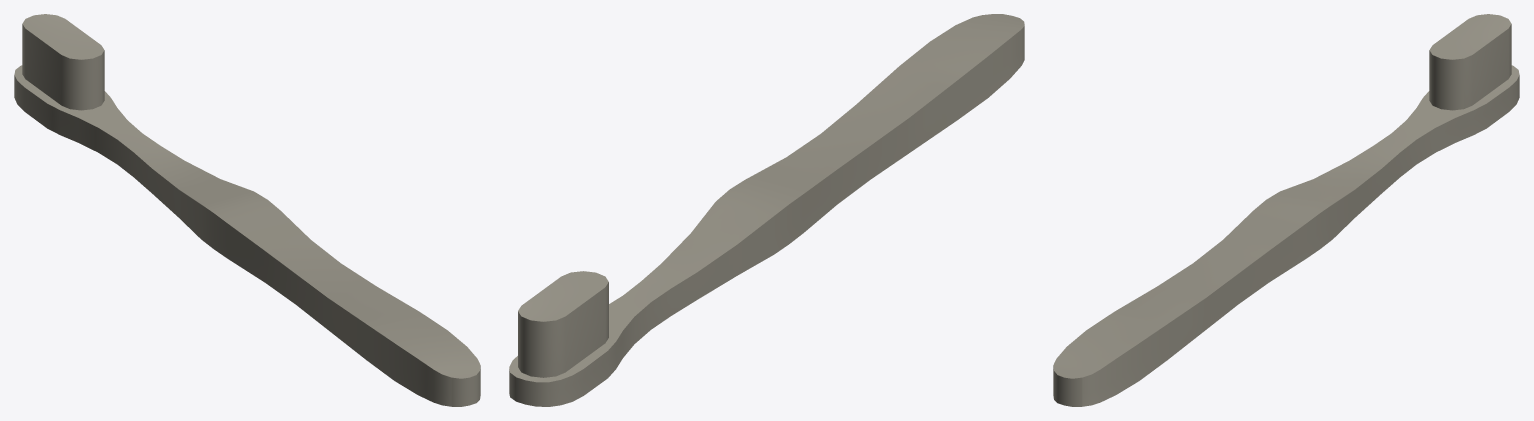
Rendered from toothbrush.glb.
3 renders of one model, left to right at view 1: azimuth 30°, elevation 25°; view 2: azimuth 150°, elevation 25°; view 3: azimuth 330°, elevation 25°, orthographic. The views are drawn at different scales.
Visible parts, largest first — view 1: toothbrush; view 2: toothbrush; view 3: toothbrush.
Part boxes in pixels (x1,y1,x2,y2): toothbrush: (14,14,480,406); toothbrush: (509,14,1024,406); toothbrush: (1053,14,1519,406).
Bounding box in the file's own units: 0.0143 × 0.0181 × 0.1899.
1 material, 1 textured.
